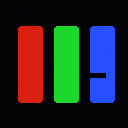3 line_h: (81, 73, 105, 77)
